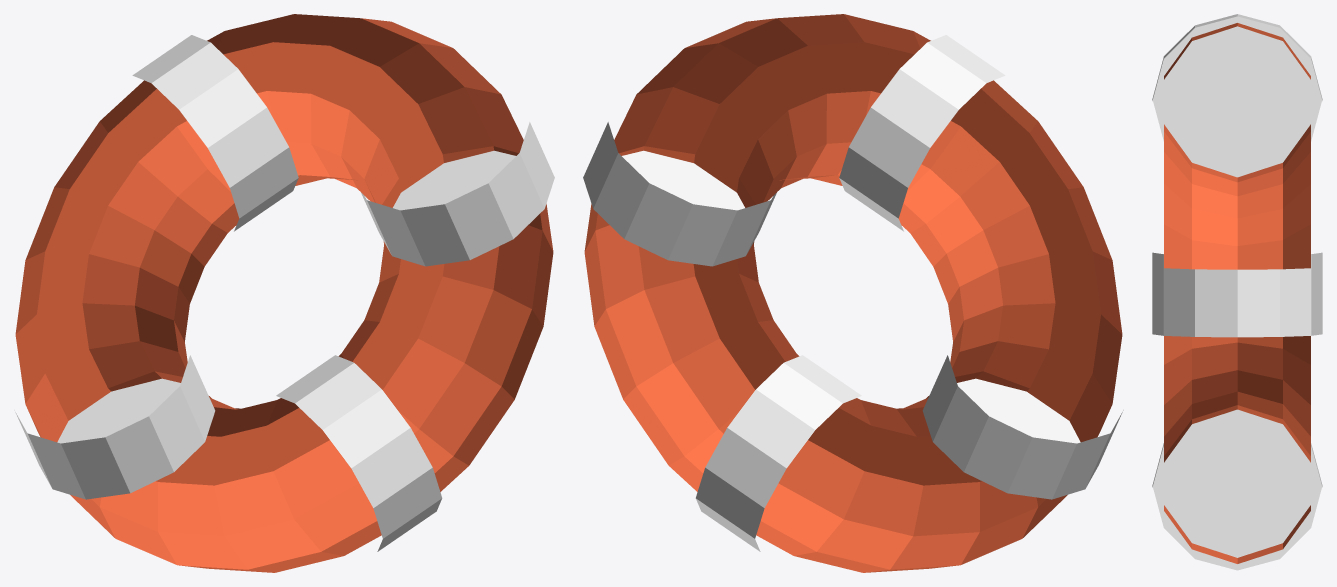
File: simring.glb
The picture shows the model from 3 angles, left to right: view 1: azimuth 30°, elevation 25°; view 2: azimuth 150°, elevation 25°; view 3: azimuth 270°, elevation 25°; orthographic projection. The views are drawn at different scales.
Visible parts, largest first — view 1: simring; view 2: simring; view 3: simring.
Part boxes in pixels (x1,y1,x2,y2): simring: [14, 14, 554, 572]; simring: [583, 14, 1123, 572]; simring: [1152, 14, 1322, 570].
Bounding box in the file's own units: 0.56 × 0.5578 × 0.176.
